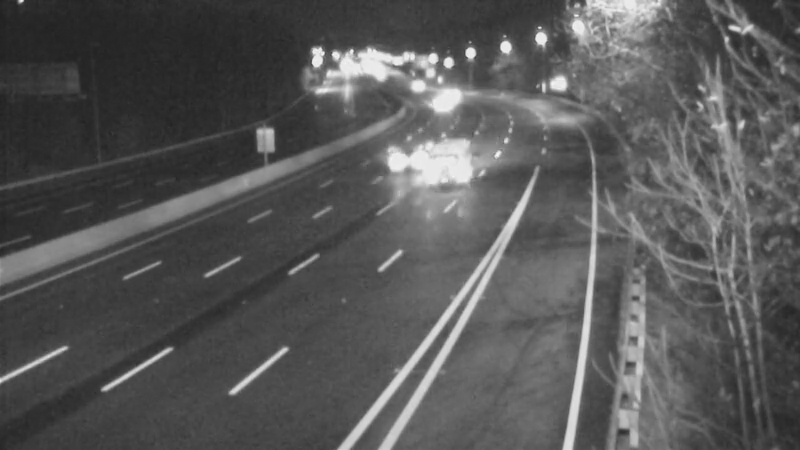vehicle: (357, 114, 437, 194), (418, 130, 498, 210), (391, 62, 441, 112), (427, 68, 477, 118), (406, 75, 456, 125)
